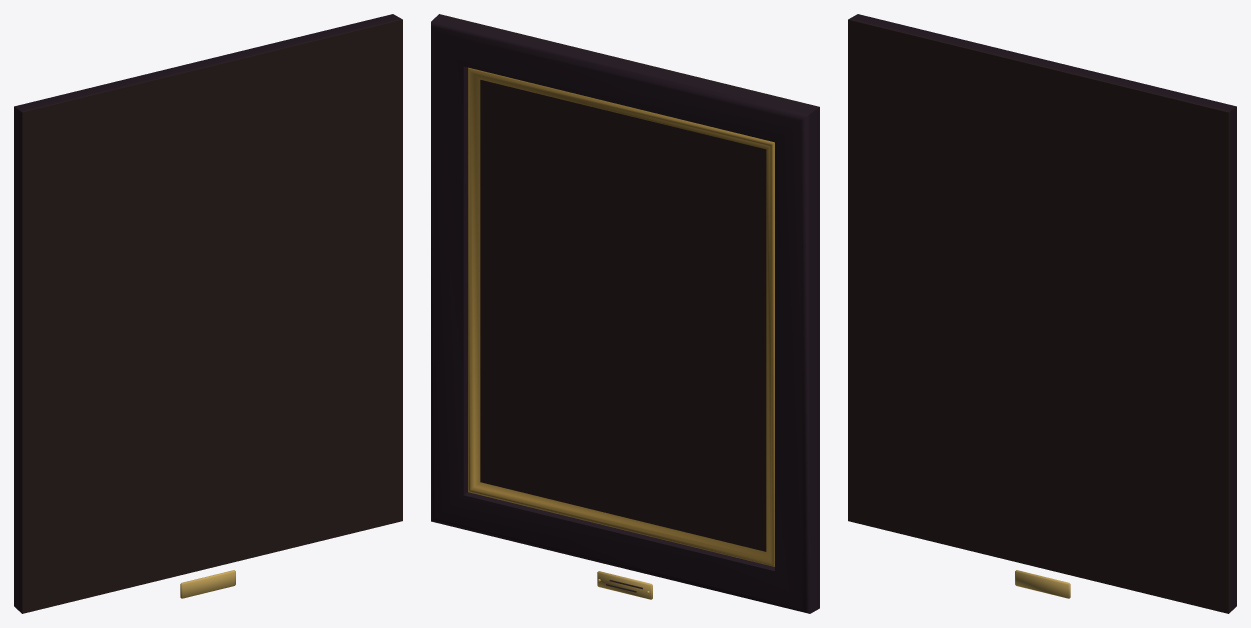
File: ebony_dark_port.glb
3 renders of one model, left to right at view 1: azimuth 30°, elevation 25°; view 2: azimuth 150°, elevation 25°; view 3: azimuth 330°, elevation 25°, orthographic.
Visible parts, largest first — view 1: ebony_dark_port; view 2: ebony_dark_port; view 3: ebony_dark_port.
Part boxes in pixels (<box>): ebony_dark_port: <box>14,14,402,613</box>; ebony_dark_port: <box>431,14,819,613</box>; ebony_dark_port: <box>848,14,1236,613</box>.
Size of what is drawn, in the model's own units: 0.966 by 1.28 by 0.052.
